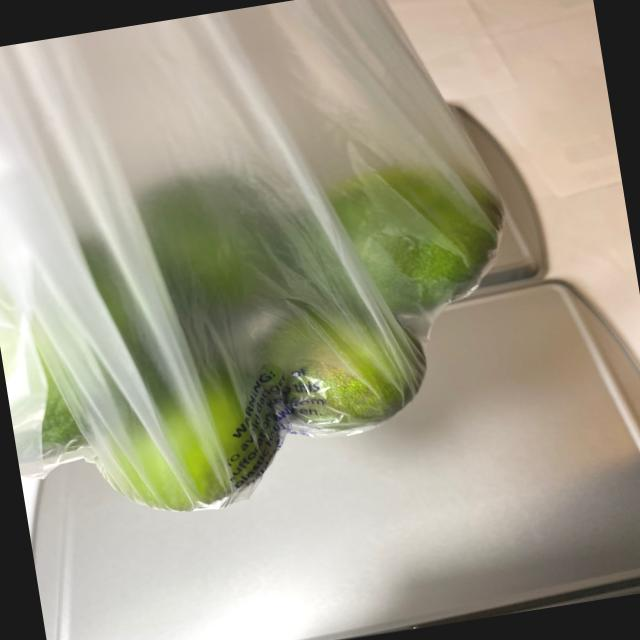lemon: (0, 136, 543, 531)
